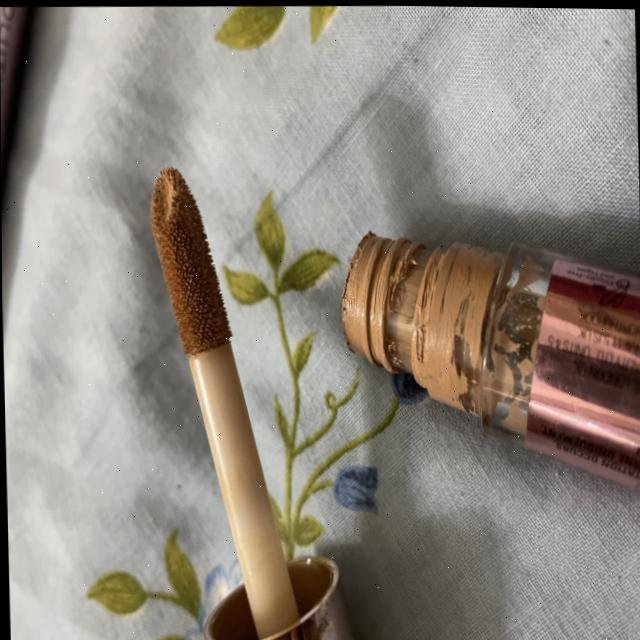concealer: (105, 127, 394, 640), (303, 147, 640, 493)
